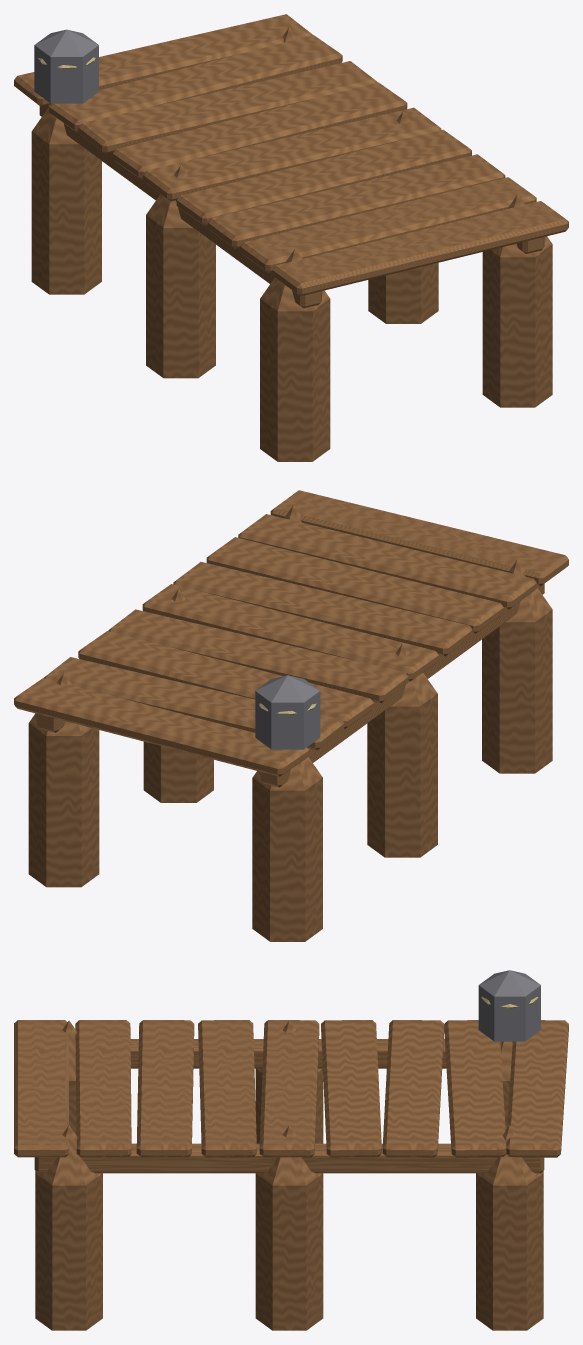
Rendered from WoodenDock.glb.
3 views of the same model, one above another, from view 1: azimuth 30°, elevation 25°; view 2: azimuth 150°, elevation 25°; view 3: azimuth 270°, elevation 25° (orthographic). The views are drawn at different scales.
Visible parts, largest first — view 1: WoodenDock; view 2: WoodenDock; view 3: WoodenDock.
Part boxes in pixels (x1,y1,x2,y2): WoodenDock: (14,14,568,461); WoodenDock: (14,490,568,941); WoodenDock: (14,970,568,1330).
Size of the model in its own units: 2.23 by 1.95 by 4.03.
Materials: 1 (1 with a texture image).
